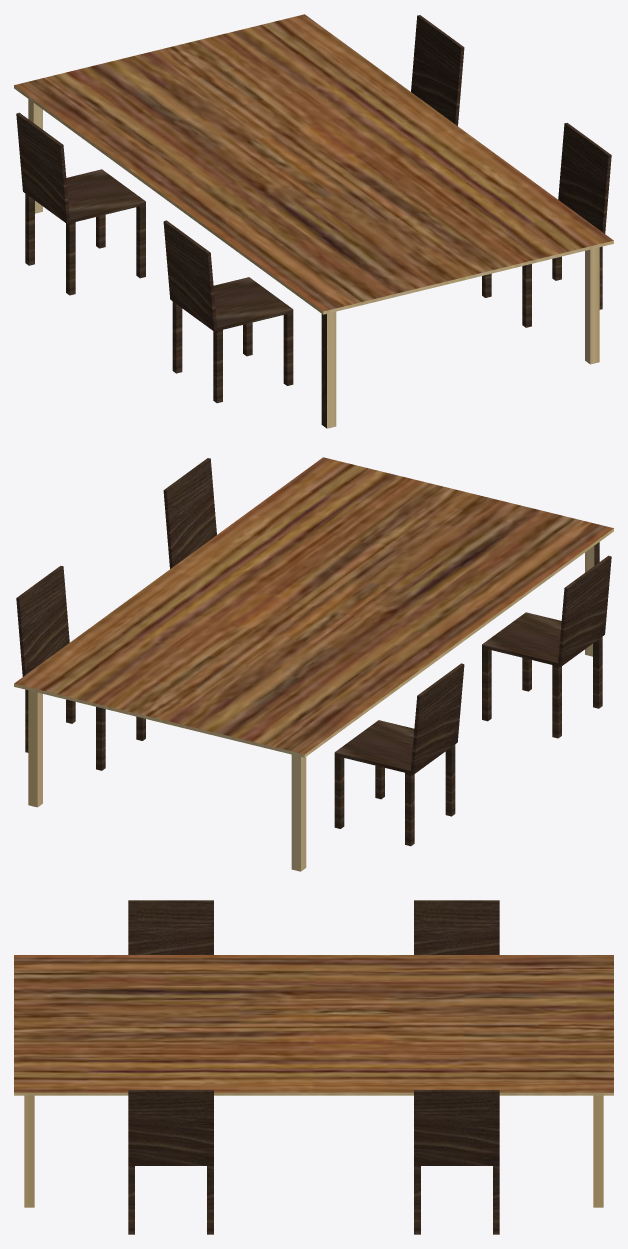
File: table2.glb
The picture shows the model from 3 angles, top to bottom: view 1: azimuth 30°, elevation 25°; view 2: azimuth 150°, elevation 25°; view 3: azimuth 270°, elevation 25°; orthographic projection. The views are drawn at different scales.
Size of the model in its own units: 2.64 by 0.95 by 3.5.
Materials: 3 (3 with a texture image).
